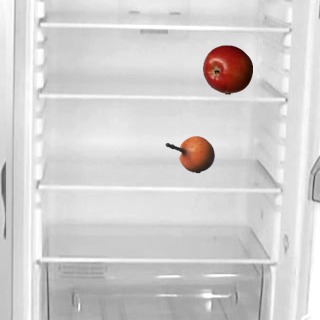Apple Braeburn: (202, 44, 252, 94)
Granadilla: (164, 129, 214, 179)
